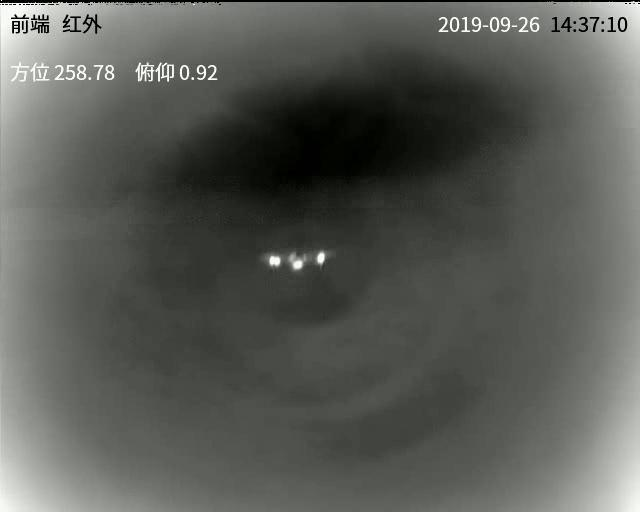DRONE: (267, 248, 328, 275)
